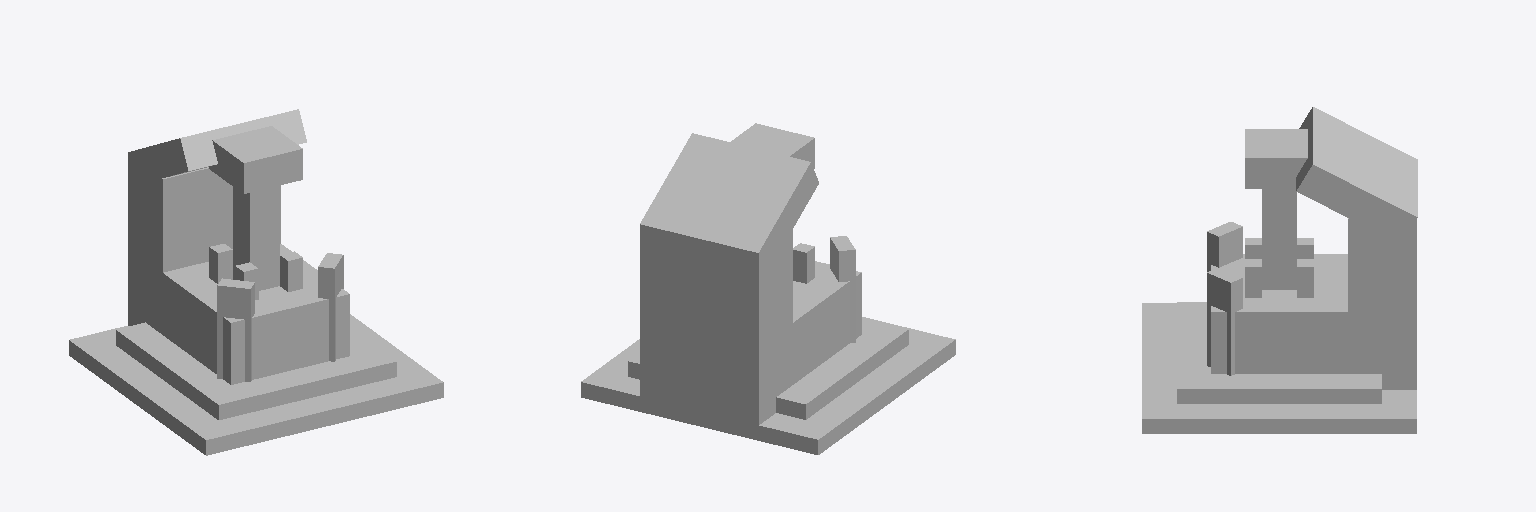
File: chem.centrifuge.obj
3 renders of one model, left to right at view 1: azimuth 30°, elevation 25°; view 2: azimuth 150°, elevation 25°; view 3: azimuth 270°, elevation 25°, orthographic.
Visible parts, largest first — view 1: A, D, G, B, I, C, H, E, F, KROT, LROT; view 2: G, H, A, B, D, I, E, JROT; view 3: A, D, G, H, B, C, I, F, E, MROT, KROT.
Boxes of the visible parts, x1=… form: A: x1=69, y1=314, x2=443, y2=455; D: x1=163, y1=244, x2=349, y2=384; G: x1=128, y1=155, x2=280, y2=334; B: x1=116, y1=322, x2=396, y2=419; I: x1=209, y1=126, x2=302, y2=193; C: x1=233, y1=186, x2=279, y2=290; H: x1=128, y1=109, x2=306, y2=183; E: x1=217, y1=278, x2=254, y2=381; F: x1=318, y1=253, x2=343, y2=361; KROT: x1=280, y1=251, x2=302, y2=291; LROT: x1=209, y1=244, x2=232, y2=283; G: x1=640, y1=226, x2=792, y2=440; H: x1=640, y1=133, x2=818, y2=272; A: x1=581, y1=317, x2=955, y2=454; B: x1=628, y1=318, x2=908, y2=419; D: x1=793, y1=261, x2=861, y2=384; I: x1=731, y1=123, x2=814, y2=168; E: x1=830, y1=236, x2=855, y2=342; JROT: x1=793, y1=243, x2=814, y2=283; A: x1=1142, y1=303, x2=1416, y2=433; D: x1=1211, y1=254, x2=1347, y2=373; G: x1=1348, y1=218, x2=1416, y2=389; H: x1=1296, y1=107, x2=1417, y2=243; B: x1=1177, y1=302, x2=1381, y2=403; C: x1=1262, y1=189, x2=1296, y2=289; I: x1=1245, y1=129, x2=1307, y2=188; F: x1=1207, y1=268, x2=1242, y2=375; E: x1=1207, y1=222, x2=1242, y2=271; MROT: x1=1297, y1=259, x2=1313, y2=297; KROT: x1=1245, y1=259, x2=1261, y2=297.
Bounding box in the file's own units: 1 × 0.9687 × 1.